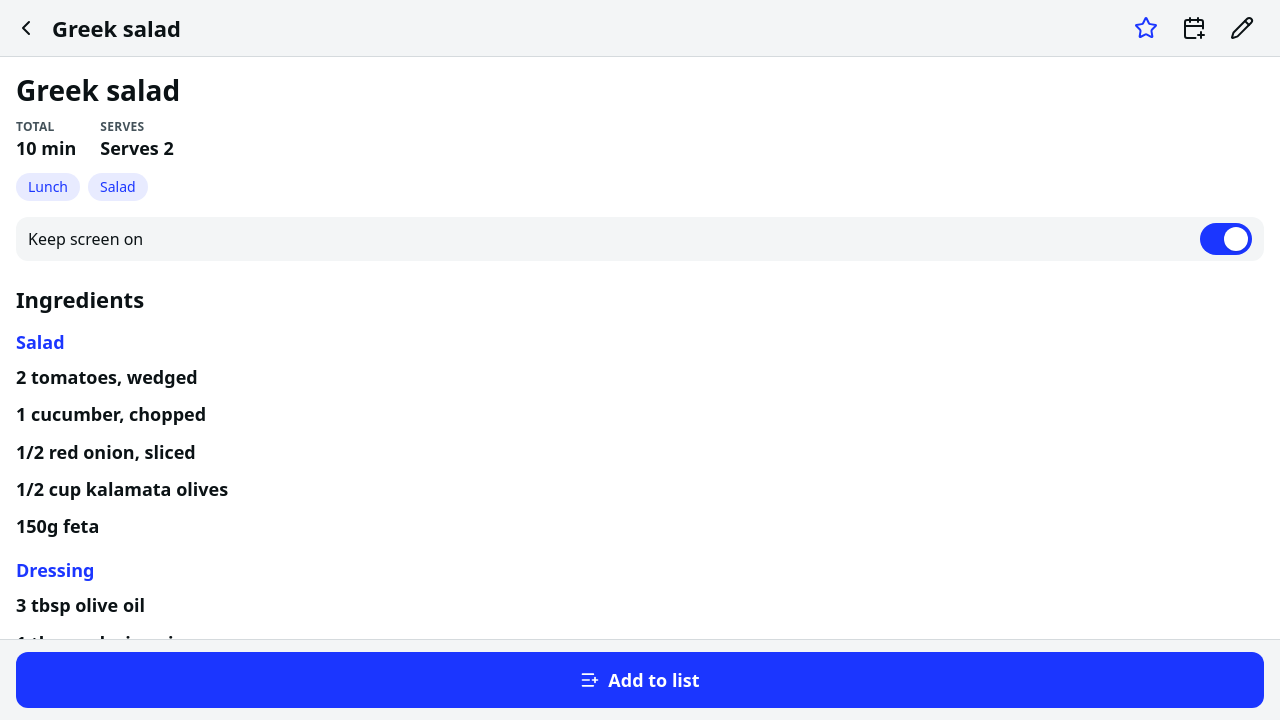
it: Recipe detail › toggles the favourite without a version
The width and height of the screenshot is (1280, 720).
Click the button named "Add to favourites" at (1146,28), box [1124,6,1168,50]
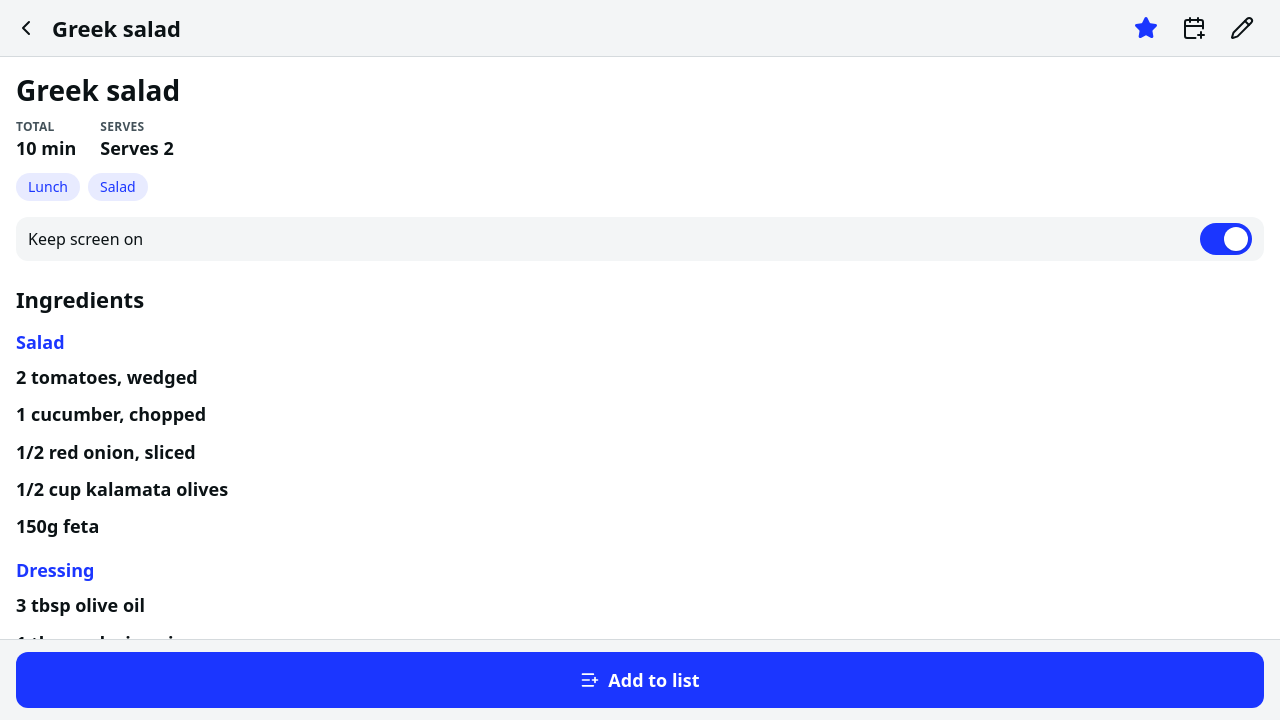
Now the button named "Remove from favourites" is shown, box [1124,6,1168,50]
